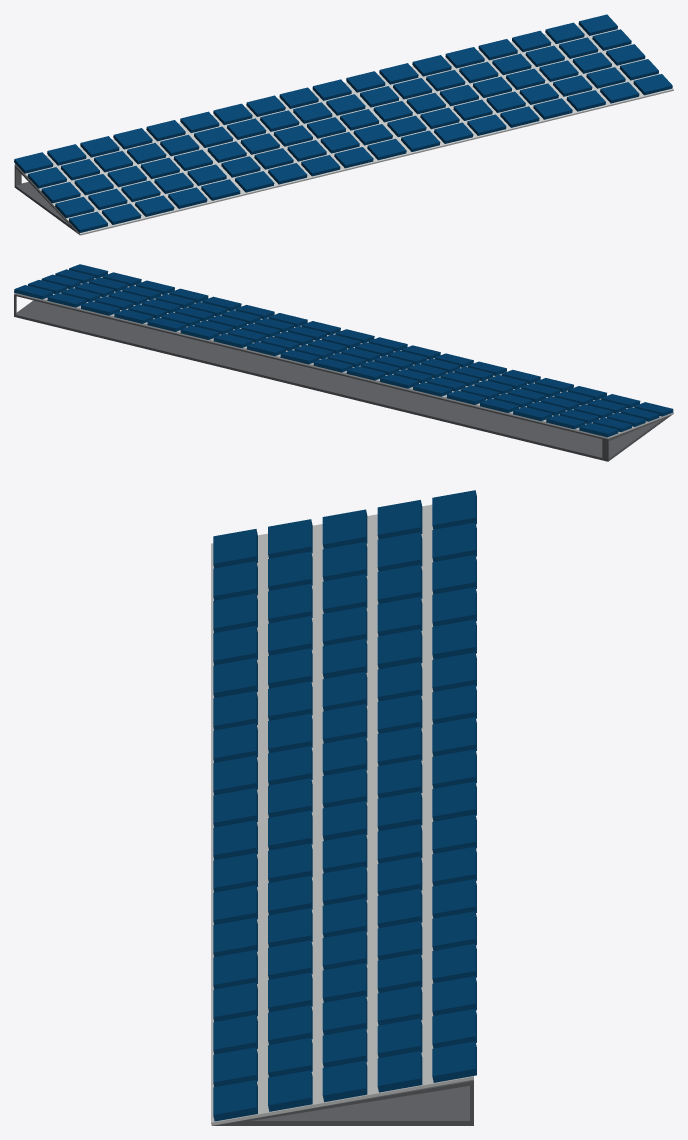
File: solar-panel-5x18-small.glb
3 views of the same model, one above another, from view 1: azimuth 30°, elevation 25°; view 2: azimuth 150°, elevation 25°; view 3: azimuth 270°, elevation 25° (orthographic). The views are drawn at different scales.
Visible parts, largest first — view 1: Mesh_Mesh_head_geo.001_lambert2SG.001; view 2: Mesh_Mesh_head_geo.001_lambert2SG.001; view 3: Mesh_Mesh_head_geo.001_lambert2SG.001.
Boxes of the visible parts, x1=… form: Mesh_Mesh_head_geo.001_lambert2SG.001: x1=14, y1=14, x2=673, y2=235; Mesh_Mesh_head_geo.001_lambert2SG.001: x1=14, y1=264, x2=673, y2=461; Mesh_Mesh_head_geo.001_lambert2SG.001: x1=211, y1=490, x2=476, y2=1125.
Bounding box in the file's own units: 554 × 25.19 × 108.
